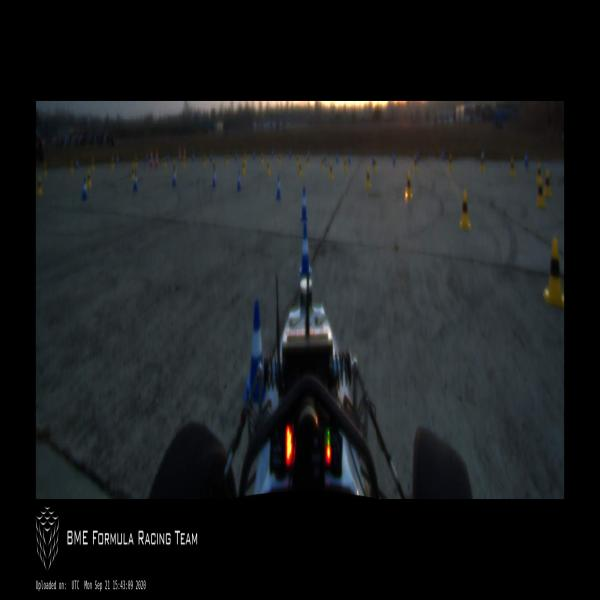blue_cone: (247, 303, 264, 395), (300, 223, 311, 276), (300, 187, 308, 220), (276, 174, 282, 200), (82, 178, 88, 201), (133, 169, 138, 192), (237, 169, 241, 192), (524, 151, 529, 168), (212, 168, 216, 188), (172, 168, 176, 188), (75, 153, 79, 168), (145, 151, 148, 164), (416, 151, 419, 163), (393, 154, 396, 164), (116, 155, 119, 164), (348, 155, 351, 164), (324, 152, 327, 160), (442, 150, 444, 160), (336, 153, 338, 162), (290, 149, 292, 157), (253, 152, 255, 160), (192, 154, 194, 162), (210, 154, 212, 161), (235, 153, 237, 159), (167, 154, 168, 162), (272, 150, 273, 157)
large_orange_cone: (178, 145, 182, 164), (150, 150, 154, 168), (155, 148, 158, 168)
yellow_cone: (543, 241, 564, 304), (461, 189, 471, 228), (545, 168, 552, 198), (537, 179, 544, 208), (364, 166, 371, 189), (406, 172, 412, 198), (536, 160, 542, 183), (328, 162, 334, 182), (510, 158, 516, 178), (37, 176, 42, 196), (86, 170, 91, 189), (298, 159, 302, 179), (320, 153, 324, 171), (372, 156, 376, 173), (414, 156, 418, 173), (278, 151, 282, 168), (306, 151, 310, 168), (130, 165, 134, 181), (134, 154, 138, 170), (43, 160, 47, 176), (70, 158, 74, 173), (212, 159, 216, 173), (182, 154, 186, 168), (449, 154, 452, 172), (481, 154, 484, 172), (267, 159, 270, 176), (344, 156, 347, 173), (296, 150, 299, 167), (244, 151, 247, 167), (242, 159, 245, 174), (92, 155, 95, 170), (203, 154, 206, 168), (260, 150, 263, 164), (226, 152, 229, 165), (173, 160, 176, 172), (112, 154, 114, 170), (164, 155, 166, 167)
